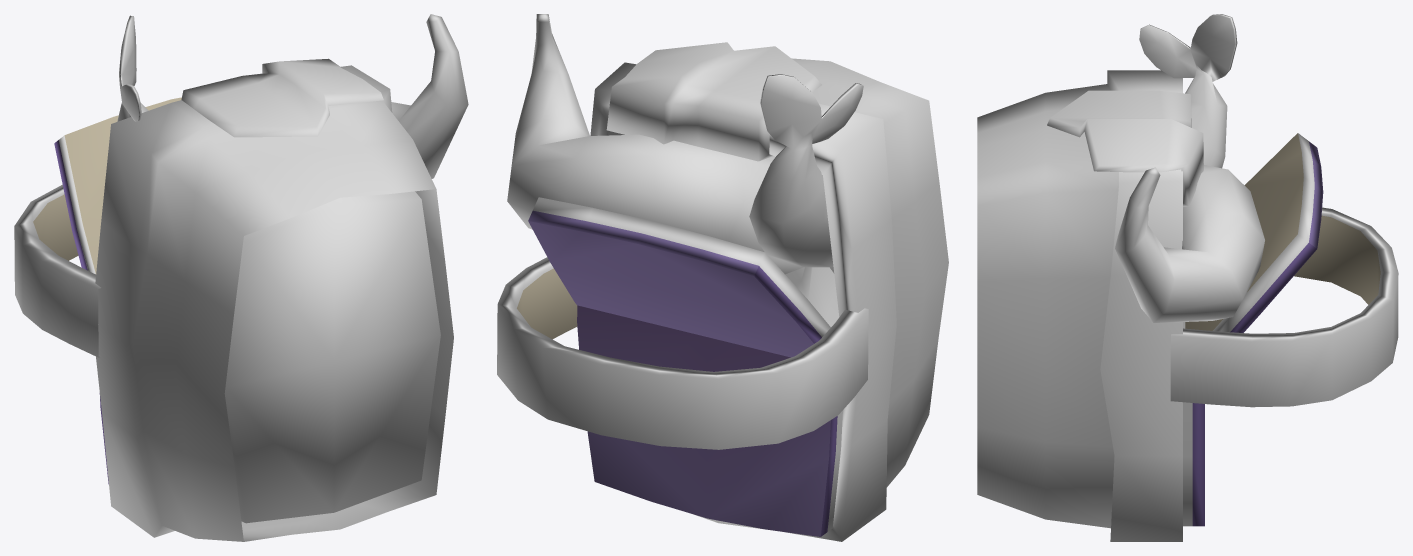
Rendered from PicnicBasket.fbx.
3 renders of one model, left to right at view 1: azimuth 30°, elevation 25°; view 2: azimuth 150°, elevation 25°; view 3: azimuth 270°, elevation 25°, orthographic. The views are drawn at different scales.
Visible parts, largest first — view 1: PicnicBasket; view 2: PicnicBasket; view 3: PicnicBasket.
Part boxes in pixels (x1=…): PicnicBasket: x1=14, y1=14, x2=468, y2=541; PicnicBasket: x1=497, y1=14, x2=948, y2=541; PicnicBasket: x1=977, y1=14, x2=1398, y2=541.
Size of the model in its own units: 52.06 by 64.79 by 55.54.
